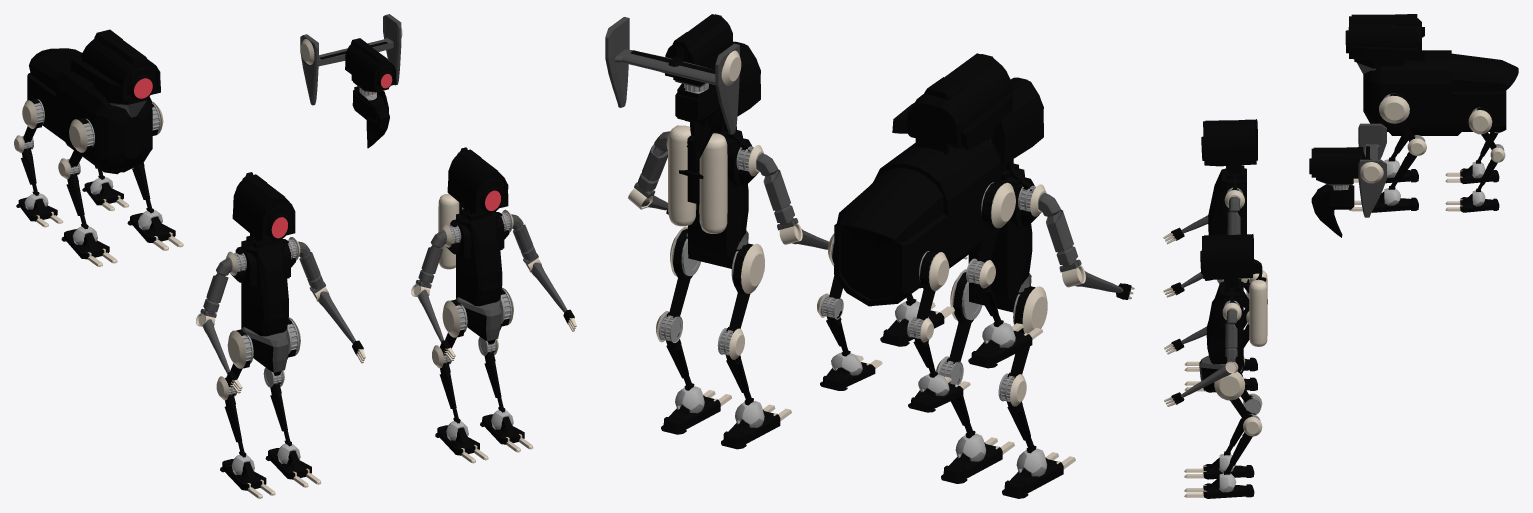
File: robot lowpoly pack.fbx
3 views of the same model, side by side, from view 1: azimuth 30°, elevation 25°; view 2: azimuth 150°, elevation 25°; view 3: azimuth 270°, elevation 25° (orthographic). The views are drawn at different scales.
Parts seen in each view (by area): view 1: polySurface378, polySurface233, pPrism3, polySurface377; view 2: polySurface378, pPrism3, polySurface233, polySurface377; view 3: polySurface378, pPrism3, polySurface233, polySurface377.
Part boxes in pixels (x1,y1,x2,y2): polySurface378: (14,29,183,266); polySurface233: (196,172,365,498); pPrism3: (411,147,576,463); polySurface377: (300,14,402,148); polySurface378: (817,53,1042,412); pPrism3: (628,41,828,449); polySurface233: (936,77,1134,498); polySurface377: (605,14,741,164); polySurface378: (1345,14,1518,212); pPrism3: (1164,234,1267,498); polySurface233: (1163,119,1257,392); polySurface377: (1309,123,1386,237).
Size of the model in its own units: 32.53 by 32.22 by 29.6.
